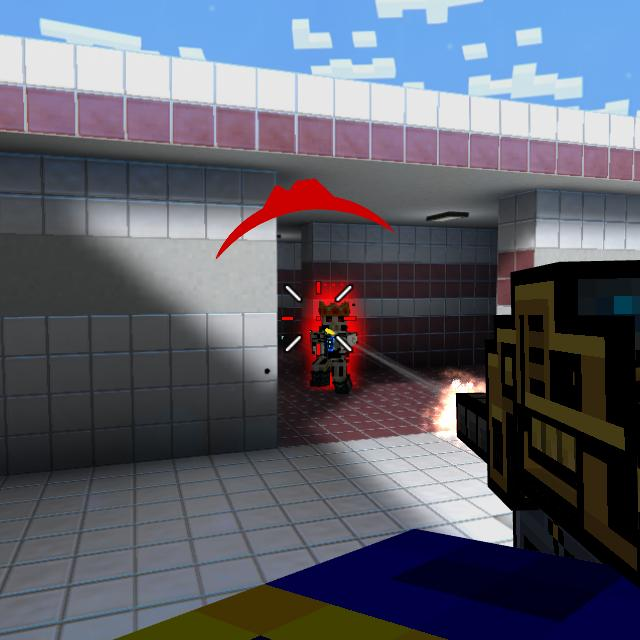Enemy: (310, 304, 360, 392)
